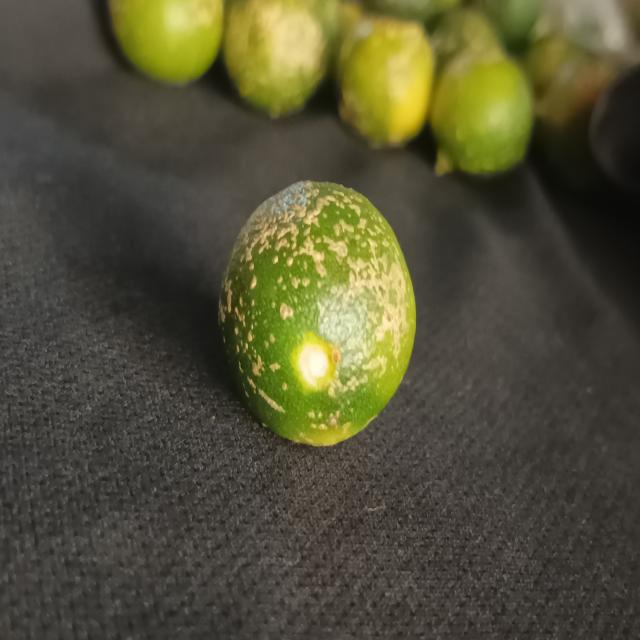scab: (212, 182, 418, 457)
